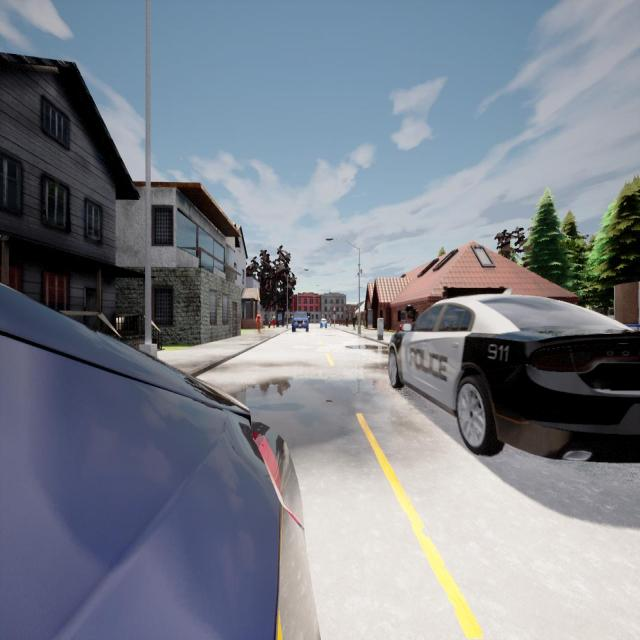Pedestrian: (256, 310, 261, 332), (352, 313, 356, 330), (272, 314, 275, 328)
Vehicle: (0, 288, 317, 640), (388, 293, 640, 455), (292, 312, 309, 332), (320, 319, 327, 329)
traffic_light: (334, 308, 336, 315)
